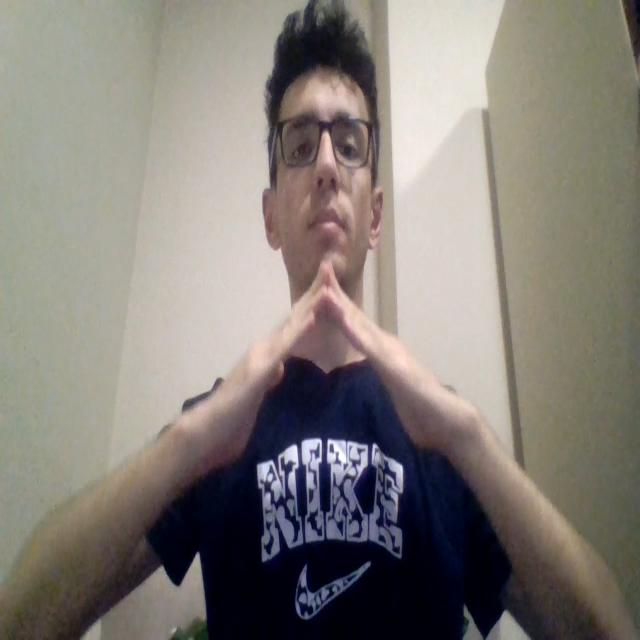house: (210, 265, 456, 450)
